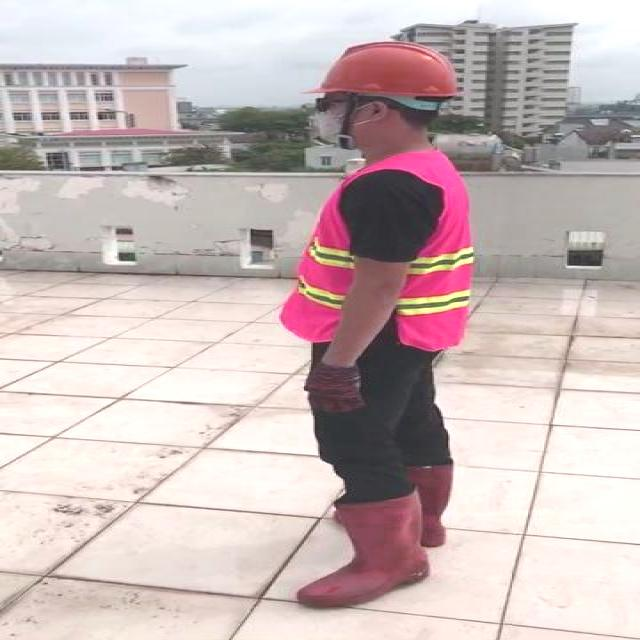boots: (297, 486, 428, 609), (348, 449, 463, 546)
face_mask: (306, 93, 380, 148)
hand_glove: (302, 363, 364, 412)
head_helmet: (309, 43, 463, 100)
person: (245, 32, 503, 611)
vest: (283, 152, 473, 348)
